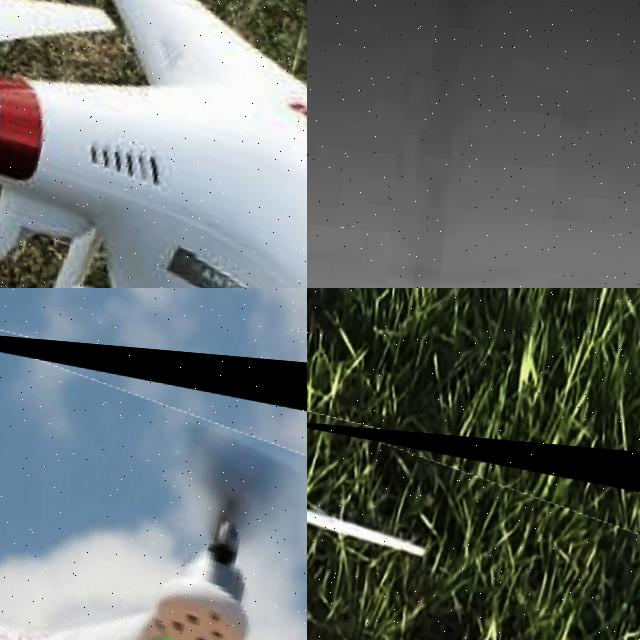0: (0, 322, 307, 640), (0, 0, 307, 288)
drone: (307, 418, 640, 640)
